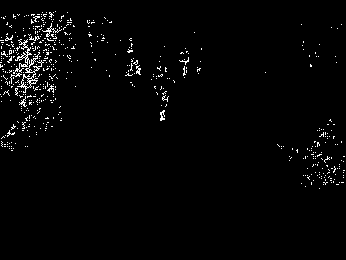person: (149, 55, 175, 122)
